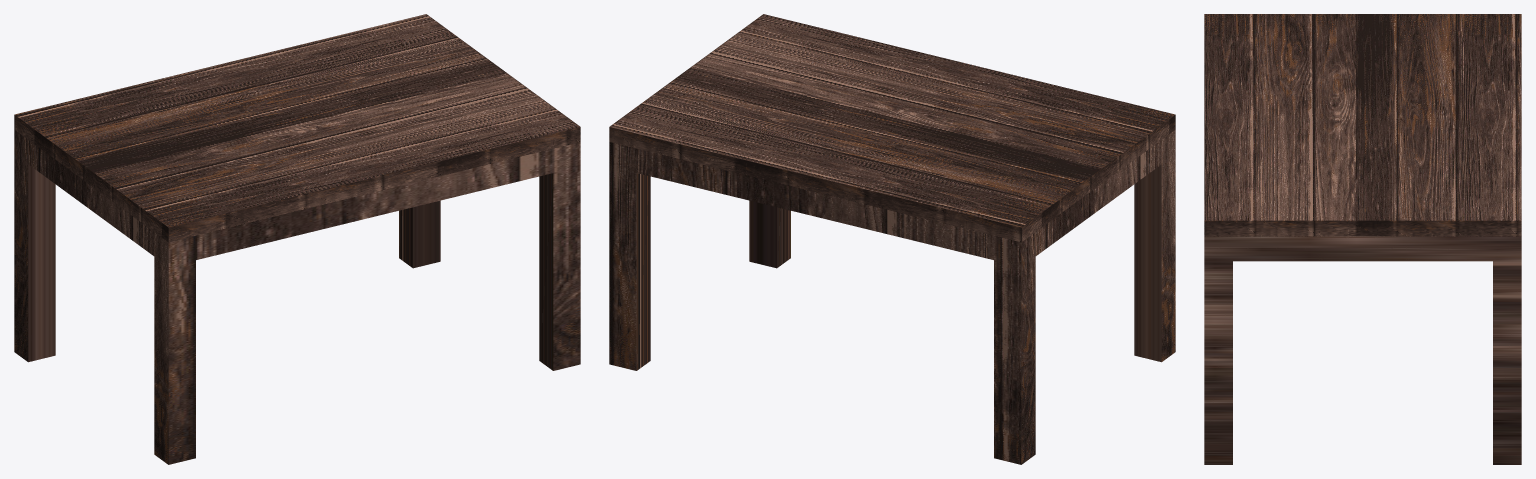
The model's file is table.fbx.
3 renders of one model, left to right at view 1: azimuth 30°, elevation 25°; view 2: azimuth 150°, elevation 25°; view 3: azimuth 270°, elevation 25°, orthographic. The views are drawn at different scales.
Parts seen in each view (by area): view 1: Cube; view 2: Cube; view 3: Cube.
Boxes of the visible parts, x1,y1,x2,y2 form: Cube: [14, 14, 580, 464]; Cube: [609, 14, 1175, 464]; Cube: [1204, 14, 1521, 464].
Bounding box in the file's own units: 565 × 311 × 366.
